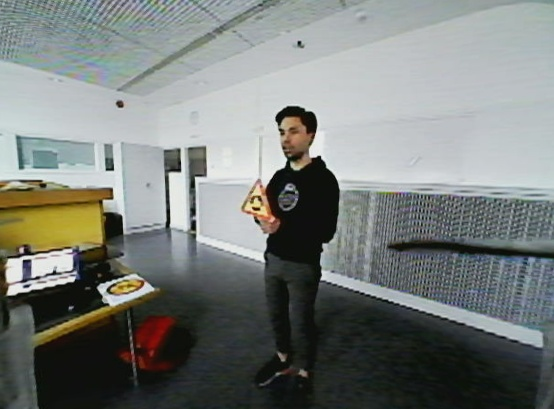roundabout_warning: (237, 175, 279, 228)
